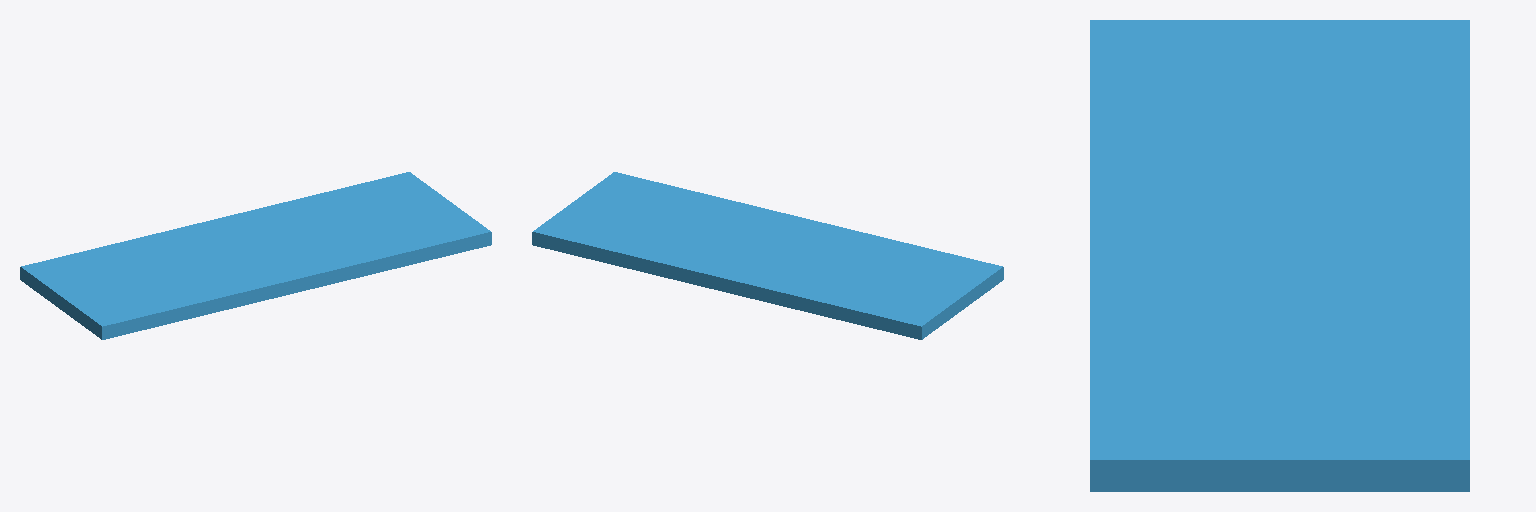
robot.urdf — cylinder_65:
    
    <robot name="cylinder_65">
        <link name="cylinder_65">    
            <fem>
                <origin rpy="0.0 0.0 0.0" xyz="0 0 0" />
                <density value="100" />
                <youngs value="959"/>
                <poissons value="0.3" />
                <damping value="0.0" />
                <attachDistance value="0.01" />
                <tetmesh filename="[local-path]/sim_data/Custom/Custom_mesh/multi_cylinders_official/cylinder_65.tet" />
                <scale value="0.5"/>
            </fem>
        </link>

        <link name="fix_frame">
            <visual>
                <origin xyz="0.0 0.0 10.065354760906546"/>
                <geometry>
                    <box size="0.15 0.05474720130641263 0.005"/>
                </geometry>
            </visual>
            <collision>
                <origin xyz="0.0 0.0 0.06535476090654666"/>
                <geometry>
                    <box size="0.15 0.05474720130641263 0.005"/>
                </geometry>
            </collision>
            <inertial>
                <mass value="500000"/>
                <inertia ixx="0.05" ixy="0.0" ixz="0.0" iyy="0.05" iyz="0.0" izz="0.05"/>
            </inertial>
        </link>
        
        <joint name = "attach" type = "fixed">
            <origin xyz = "0.0 0.0 0.0" rpy = "0 0 0"/>
            <parent link ="cylinder_65"/>
            <child link = "fix_frame"/>
        </joint>  




    </robot>
    

--- Facts derived from the render (not from the file) ---
The picture shows the robot from 3 angles, left to right: view 1: azimuth 30°, elevation 25°; view 2: azimuth 150°, elevation 25°; view 3: azimuth 270°, elevation 25°; orthographic projection.
Model cylinder_65 with 2 links and 1 joints (1 fixed), rooted at cylinder_65, posed all joints at 0.
Visible links, largest first — view 1: fix_frame; view 2: fix_frame; view 3: fix_frame.
Boxes of the visible links, x1,y1,x2,y2 form: fix_frame: (20,172,491,339); fix_frame: (532,172,1003,339); fix_frame: (1090,20,1469,491).
Bounding box of the posed robot: 0.15 × 0.0547 × 0.005 m (x, y, z).
Geometry: primitives only (box / cylinder / sphere), no mesh files.